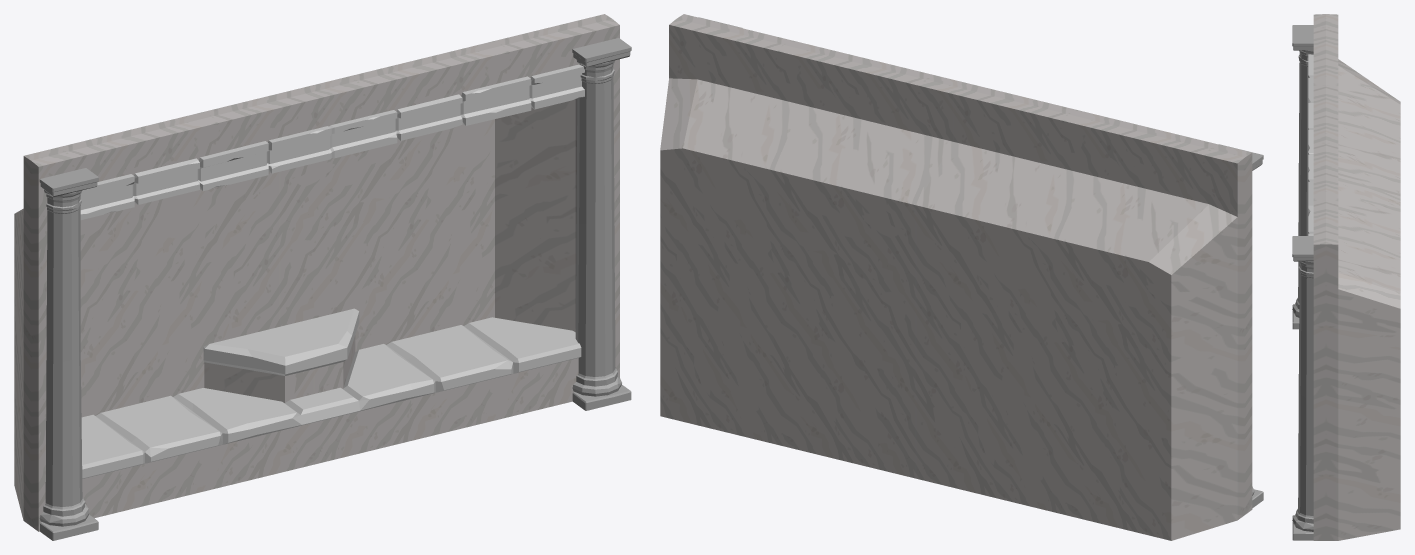
Rendered from SM_Bld_Wall_Seat_Double_01.fbx.
The picture shows the model from 3 angles, left to right: view 1: azimuth 30°, elevation 25°; view 2: azimuth 150°, elevation 25°; view 3: azimuth 270°, elevation 25°; orthographic projection. The views are drawn at different scales.
Visible parts, largest first — view 1: SM_Bld_Wall_Seat_Double_01; view 2: SM_Bld_Wall_Seat_Double_01; view 3: SM_Bld_Wall_Seat_Double_01.
Boxes of the visible parts, x1,y1,x2,y2 form: SM_Bld_Wall_Seat_Double_01: (14, 14, 631, 540); SM_Bld_Wall_Seat_Double_01: (660, 14, 1263, 540); SM_Bld_Wall_Seat_Double_01: (1292, 14, 1400, 540).
Bounding box in the file's own units: 500 × 301 × 99.37.
